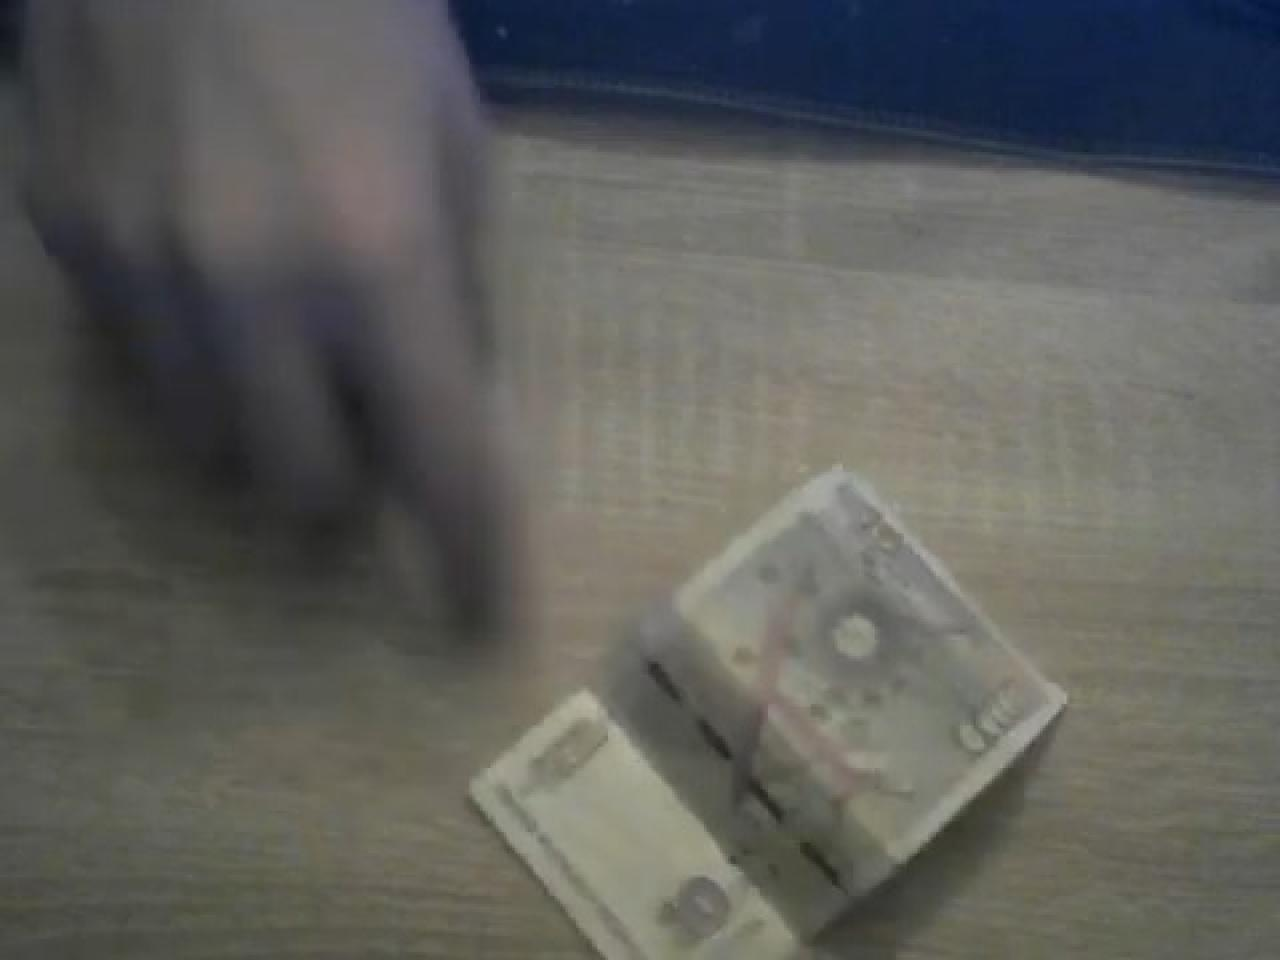10leva: (464, 469, 1072, 960)
